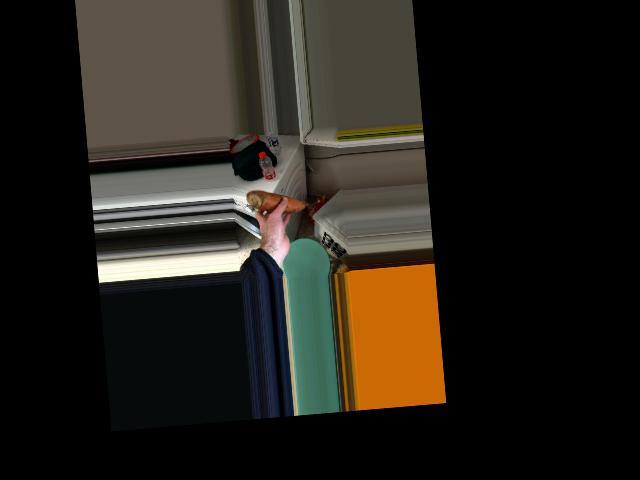sweet_potato: (246, 190, 311, 213)
